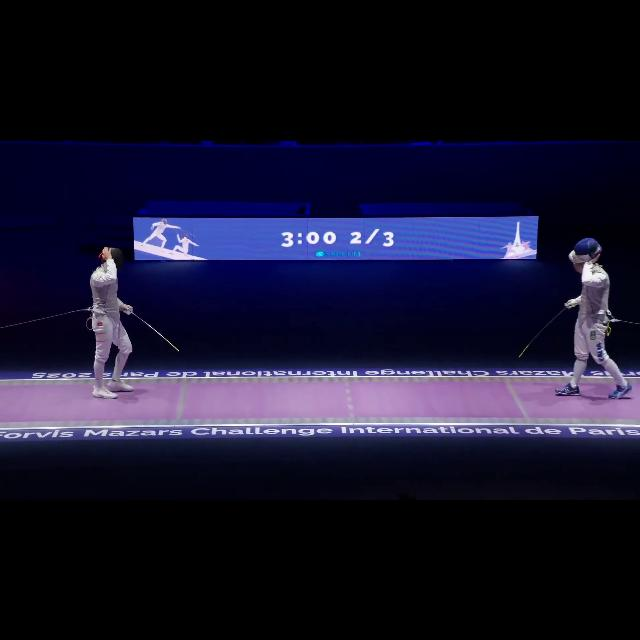blade: (116, 304, 186, 352), (517, 300, 571, 360)
